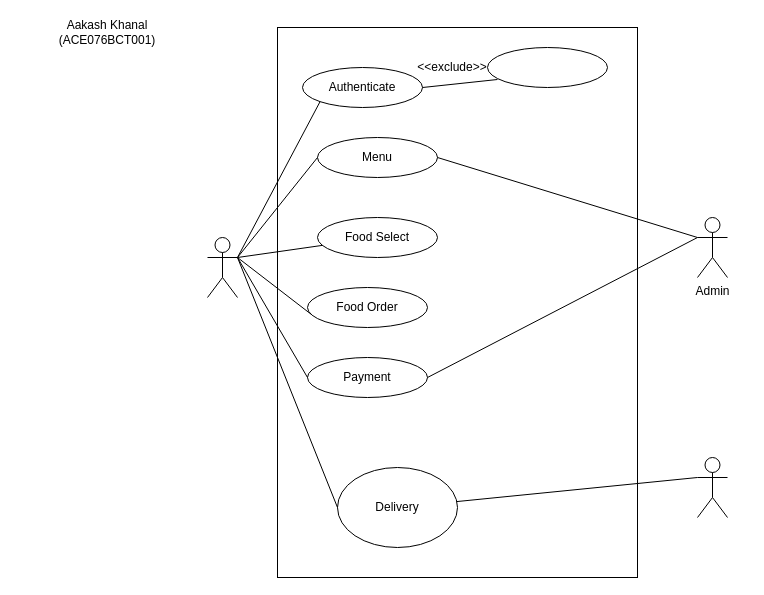
Image size: 764x595. Some labels were removed from this diagram. Each missing label, with the centre of its shape:
"Customer" goes at (222,267).
"Delivery Man" goes at (712,487).
"Invalid username or password" goes at (547,67).
